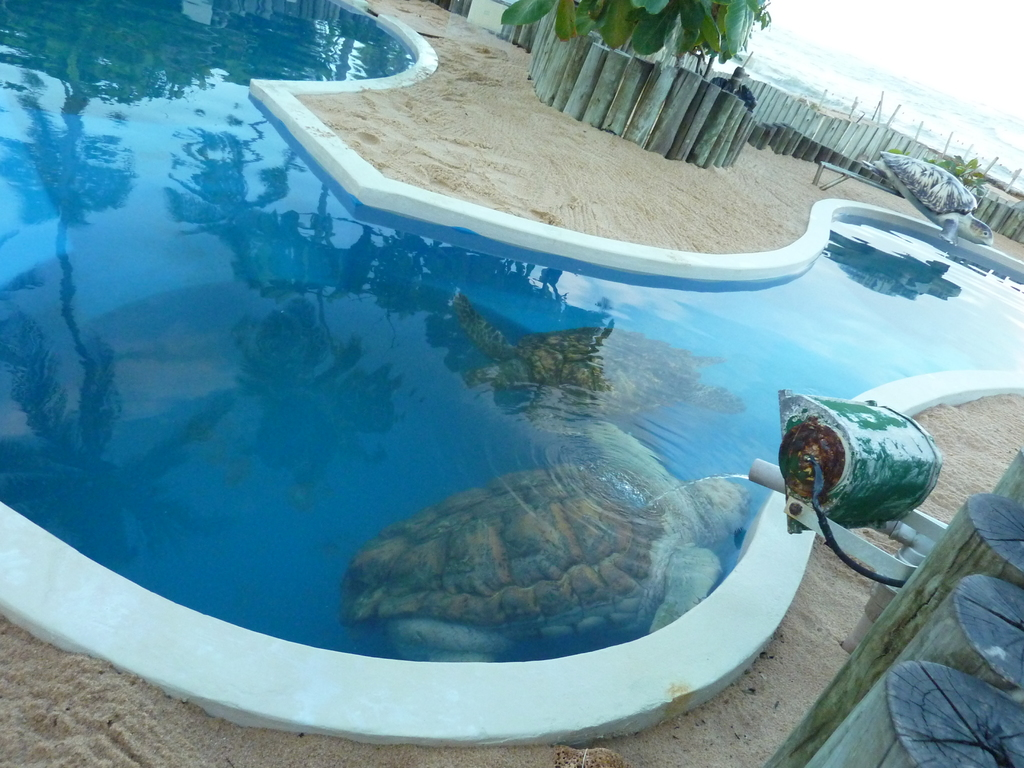Sea turtles: (332, 414, 768, 666), (446, 288, 744, 441)
